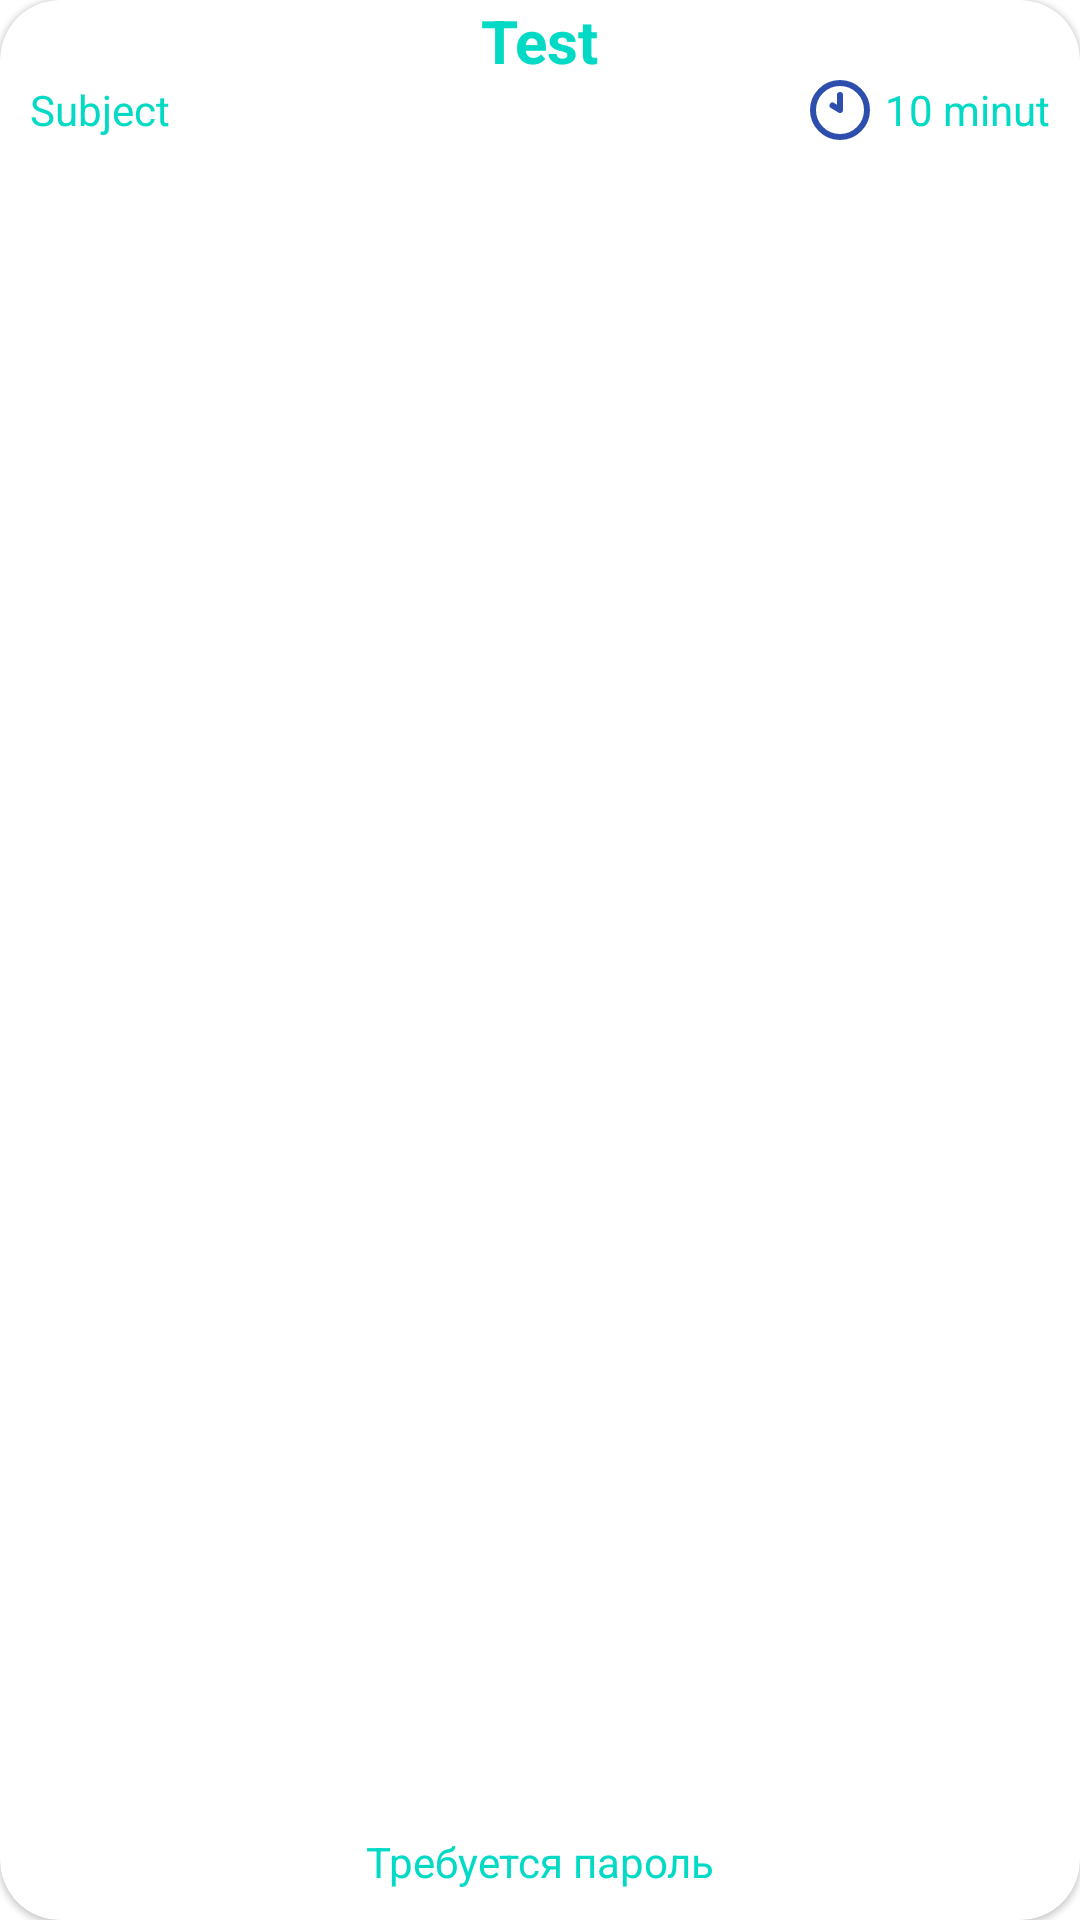

Icon click points for this 1080 × 1920 phone screenshot, format (x,y):
clock: (840,110)
